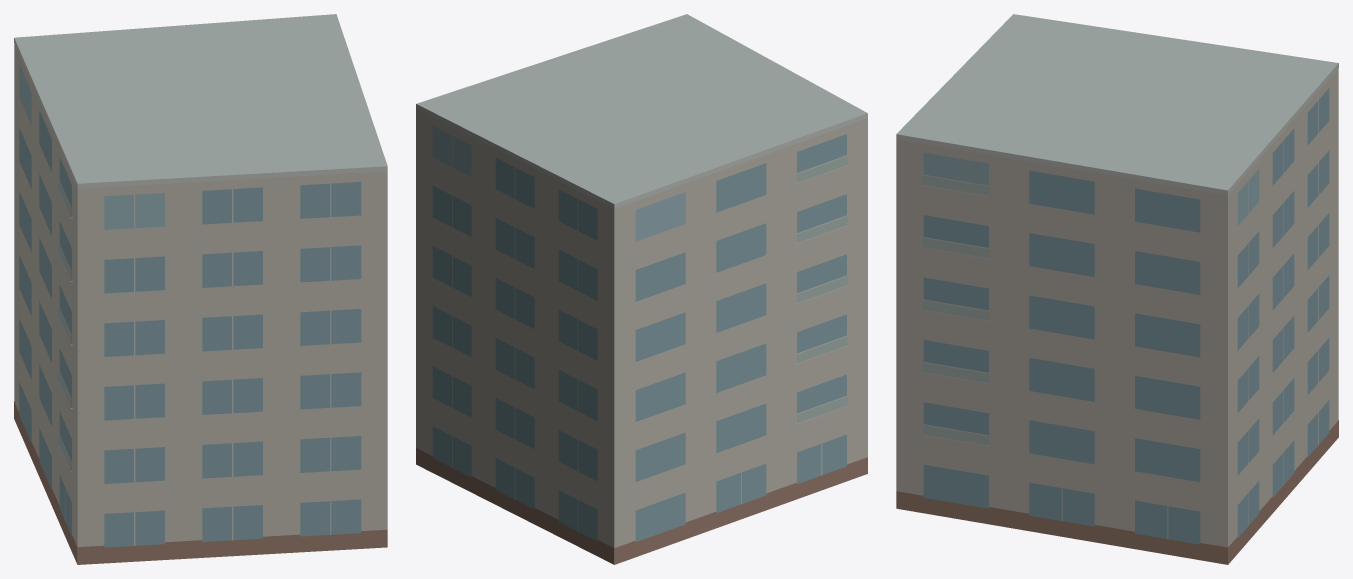
The model's file is survey-upis-32604145.glb.
The picture shows the model from 3 angles, left to right: view 1: azimuth 30°, elevation 25°; view 2: azimuth 150°, elevation 25°; view 3: azimuth 270°, elevation 25°; orthographic projection. The views are drawn at different scales.
Parts seen in each view (by area): view 1: survey-upis-32604145.tmp; view 2: survey-upis-32604145.tmp; view 3: survey-upis-32604145.tmp.
Part boxes in pixels (x1,y1,x2,y2): survey-upis-32604145.tmp: [14, 14, 387, 564]; survey-upis-32604145.tmp: [416, 14, 867, 564]; survey-upis-32604145.tmp: [896, 14, 1338, 564].
Size of the model in its own units: 18.51 by 18.3 by 19.61.
